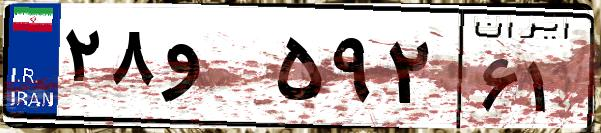1: (525, 38, 570, 115)
2: (385, 28, 445, 110), (57, 26, 110, 100)
5: (270, 28, 330, 110)
6: (475, 38, 525, 113)
8: (110, 28, 158, 98)
9: (330, 28, 385, 110)
و: (158, 20, 270, 120)
